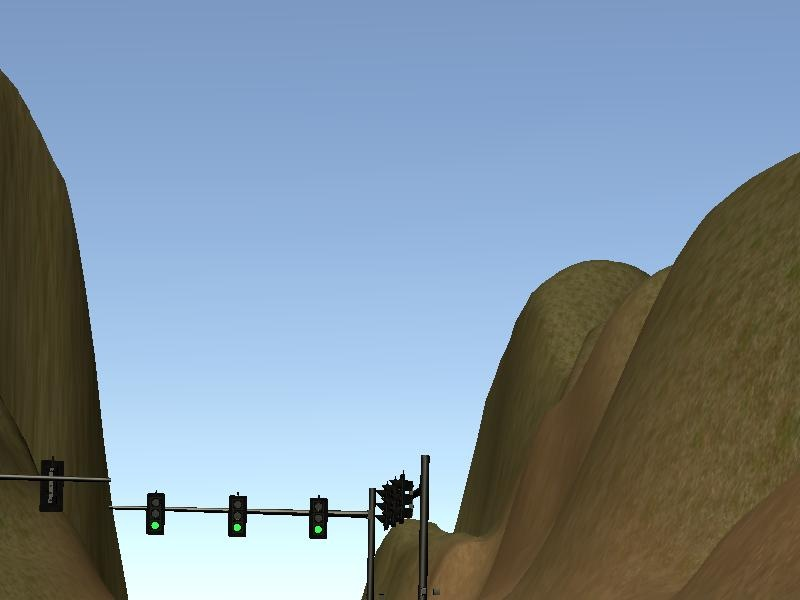green: (307, 496, 329, 538), (229, 494, 248, 536), (147, 493, 165, 533)
